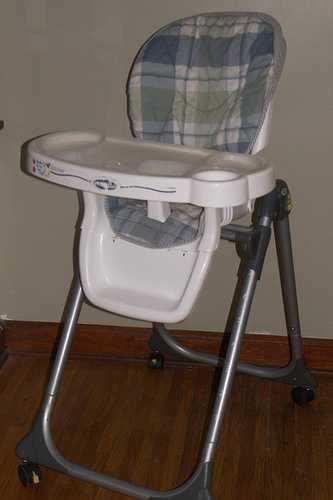obstacle: (17, 12, 313, 499)
